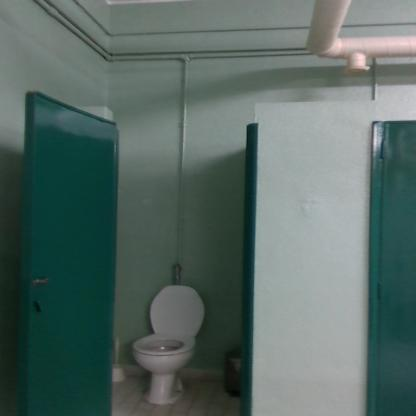open: (0, 101, 276, 416)
